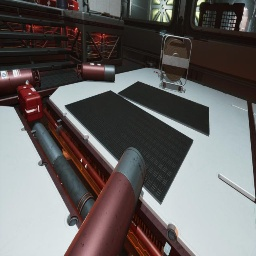FirstAidBox ,: (17, 84, 43, 122), (36, 0, 56, 8), (67, 0, 79, 11)
NitrogenTank ,: (64, 147, 146, 256), (0, 68, 41, 97), (77, 62, 115, 82)
